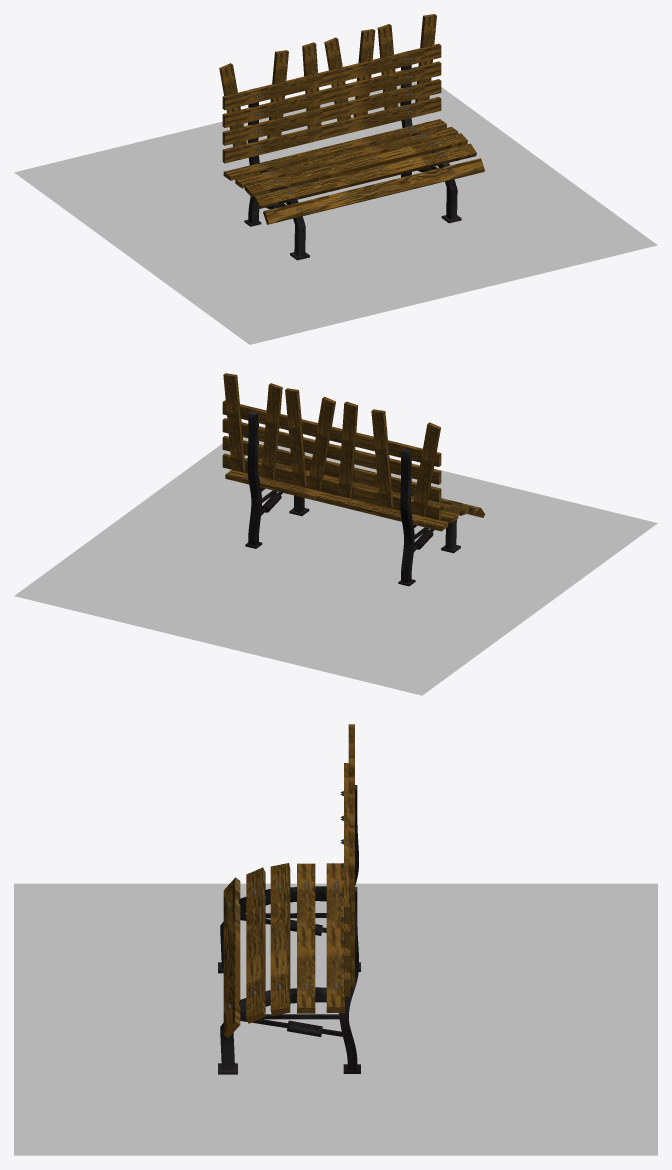
The model's file is SM_props_diorama_banc.fbx.
3 views of the same model, one above another, from view 1: azimuth 30°, elevation 25°; view 2: azimuth 150°, elevation 25°; view 3: azimuth 270°, elevation 25° (orthographic). The views are drawn at different scales.
Visible parts, largest first — view 1: sol, planche_bois, barre_banc; view 2: sol, planche_bois, barre_banc; view 3: sol, planche_bois, barre_banc.
Boxes of the visible parts, <box> form: sol: <box>14,79,657,344</box>; planche_bois: <box>219,14,484,224</box>; barre_banc: <box>244,51,461,260</box>; sol: <box>14,426,657,695</box>; planche_bois: <box>222,373,484,531</box>; barre_banc: <box>245,411,460,586</box>; sol: <box>14,883,657,1155</box>; planche_bois: <box>223,724,354,1037</box>; barre_banc: <box>218,785,360,1074</box>.
Bounding box in the file's own units: 37.67 × 14.75 × 37.67.
